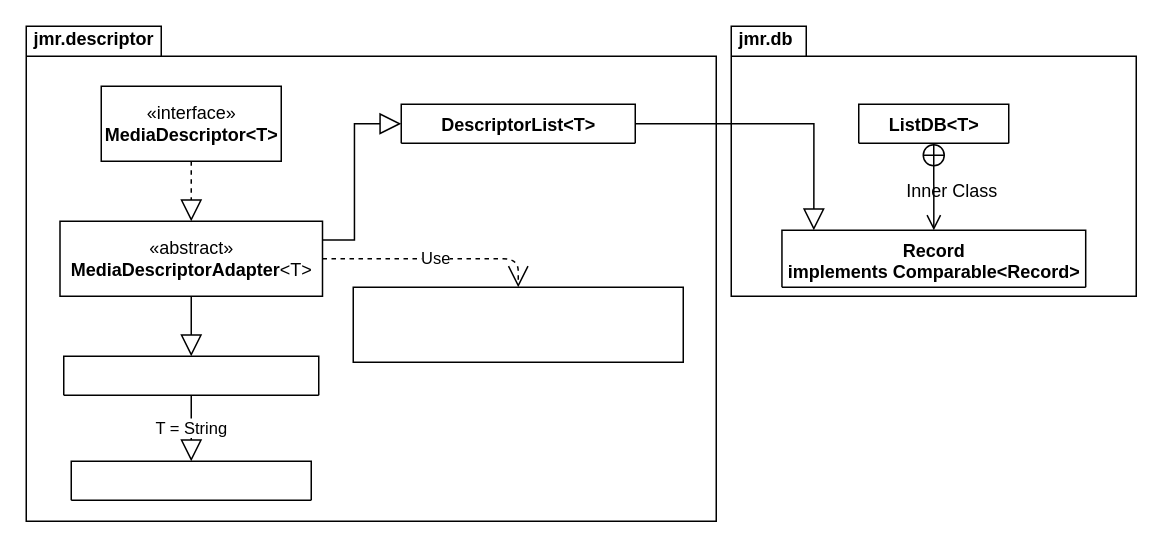
Image size: 1163x548. Some labels were removed from this diagram. The shapes that lost their labels are listed below. From the top down, each one's centre as x and y in pixels, then its label:
the point at 517,324: «interface» Comparator <T extends MediaDescriptor,R>
the point at 190,375: LabelDescriptor<T>
the point at 190,480: RegionLabelDescriptor
